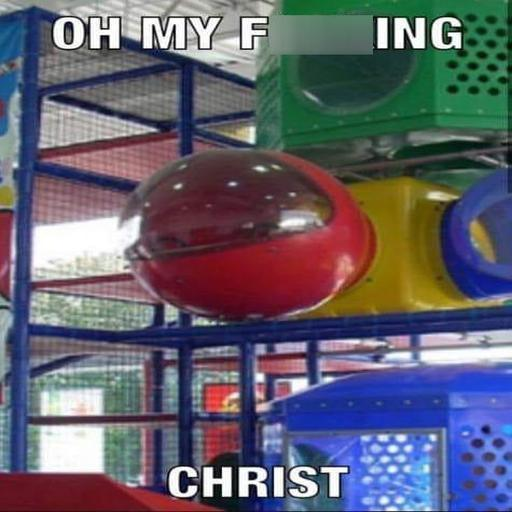Crewmate: (116, 145, 366, 320)
